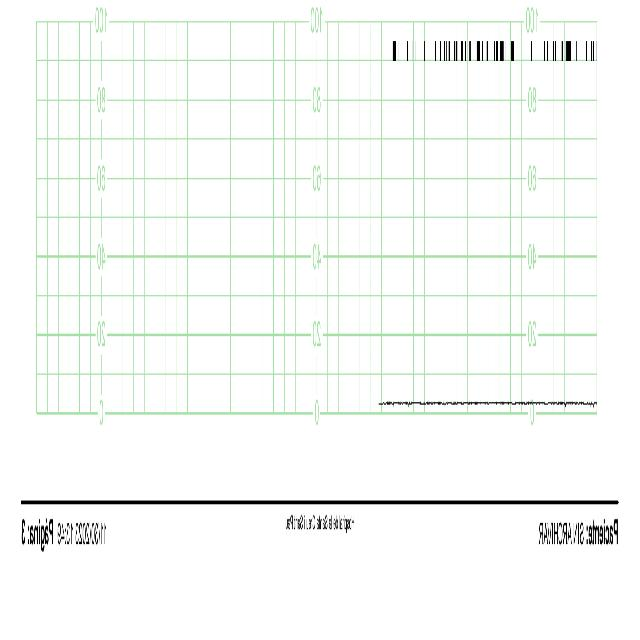contraction: (383, 392, 386, 403)
